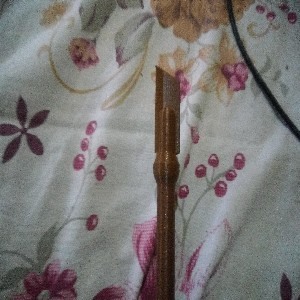cutter: (152, 64, 182, 300)
